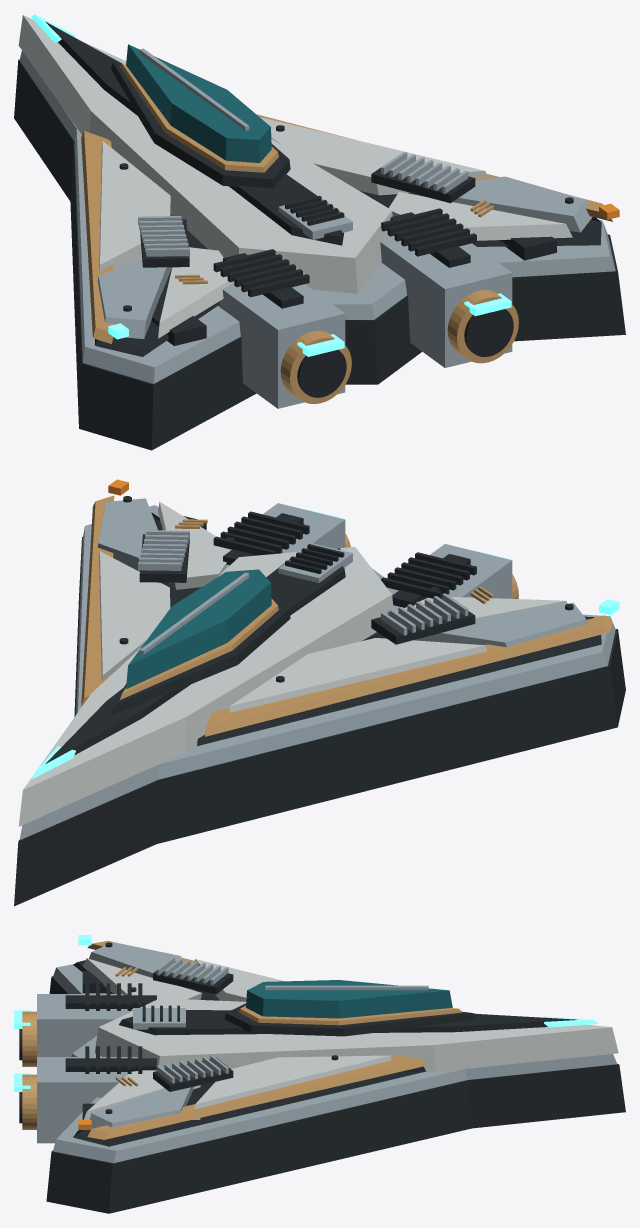
The model's file is ship-cinematic.glb.
The picture shows the model from 3 angles, top to bottom: view 1: azimuth 30°, elevation 25°; view 2: azimuth 150°, elevation 25°; view 3: azimuth 270°, elevation 25°; orthographic projection. The views are drawn at different scales.
Visible parts, largest first — view 1: armoured lower chassis, central fuselage, titanium perimeter, engine nacelle.001, engine nacelle, curved canopy, forward swept armour, forward swept armour.001, spinal inset, outer armour segment.001, outer armour segment, rear armour segment.001 (+20 smaller); view 2: armoured lower chassis, central fuselage, titanium perimeter, curved canopy, forward swept armour, alloy leading edge rail, forward swept armour.001, spinal inset, wing inset cavity, outer armour segment, cockpit gasket, alloy leading edge rail.001 (+10 smaller); view 3: armoured lower chassis, central fuselage, titanium perimeter, curved canopy, engine nacelle.001, forward swept armour.001, alloy leading edge rail.001, spinal inset, engine nacelle, cockpit gasket, wing inset cavity.001, outer armour segment.001 (+13 smaller).
Boxes of the visible parts, x1,y1,x2,y2 form: armoured lower chassis: (14, 59, 625, 450); central fuselage: (18, 15, 392, 293); titanium perimeter: (19, 51, 615, 383); engine nacelle.001: (380, 233, 512, 367); engine nacelle: (218, 282, 345, 408); curved canopy: (126, 44, 271, 162); forward swept armour: (99, 141, 170, 271); forward swept armour.001: (260, 117, 487, 195); spinal inset: (46, 22, 343, 245); outer armour segment.001: (412, 176, 592, 232); outer armour segment: (97, 260, 171, 338); rear armour segment.001: (389, 192, 572, 240); armoured lower chassis: (14, 537, 625, 906); central fuselage: (18, 547, 393, 826); titanium perimeter: (19, 505, 615, 839); curved canopy: (126, 569, 271, 689); forward swept armour: (229, 638, 486, 712); alloy leading edge rail: (205, 615, 612, 736); forward swept armour.001: (99, 551, 170, 681); spinal inset: (45, 548, 345, 763); wing inset cavity: (197, 616, 601, 745); outer armour segment: (414, 602, 588, 647); cockpit gasket: (111, 588, 290, 715); alloy leading edge rail.001: (81, 495, 114, 706); armoured lower chassis: (46, 976, 625, 1213); central fuselage: (94, 998, 618, 1071); titanium perimeter: (53, 964, 617, 1163); curved canopy: (246, 980, 452, 1018); engine nacelle.001: (37, 1057, 164, 1143); forward swept armour.001: (194, 1055, 391, 1109); alloy leading edge rail.001: (87, 1055, 426, 1139); spinal inset: (119, 1010, 576, 1035); engine nacelle: (37, 994, 132, 1056); cockpit gasket: (224, 1003, 476, 1036); wing inset cavity.001: (73, 1066, 426, 1146); outer armour segment.001: (89, 1086, 193, 1128).
Size of the model in its own units: 2 by 0.577 by 2.54.
